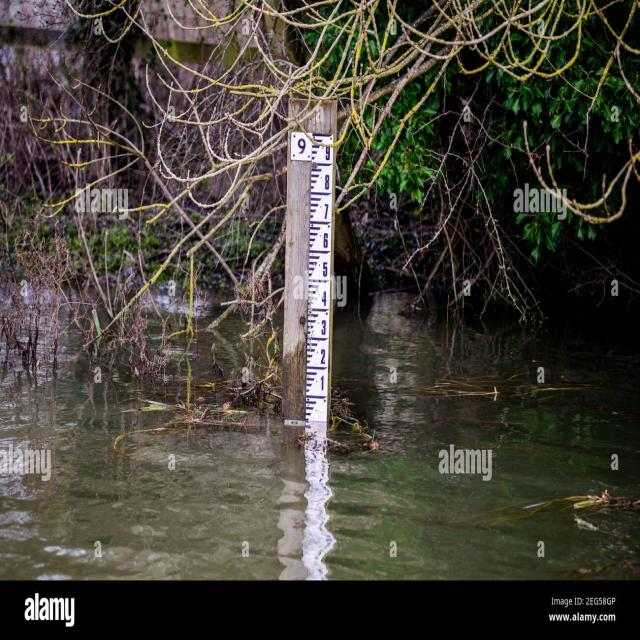ruler: (288, 125, 340, 427)
value: (318, 258, 330, 283), (319, 230, 331, 252), (316, 346, 328, 367), (320, 143, 333, 162), (321, 202, 332, 224), (296, 137, 308, 157), (321, 172, 332, 192), (318, 316, 328, 338), (316, 374, 326, 394), (318, 288, 329, 306)
